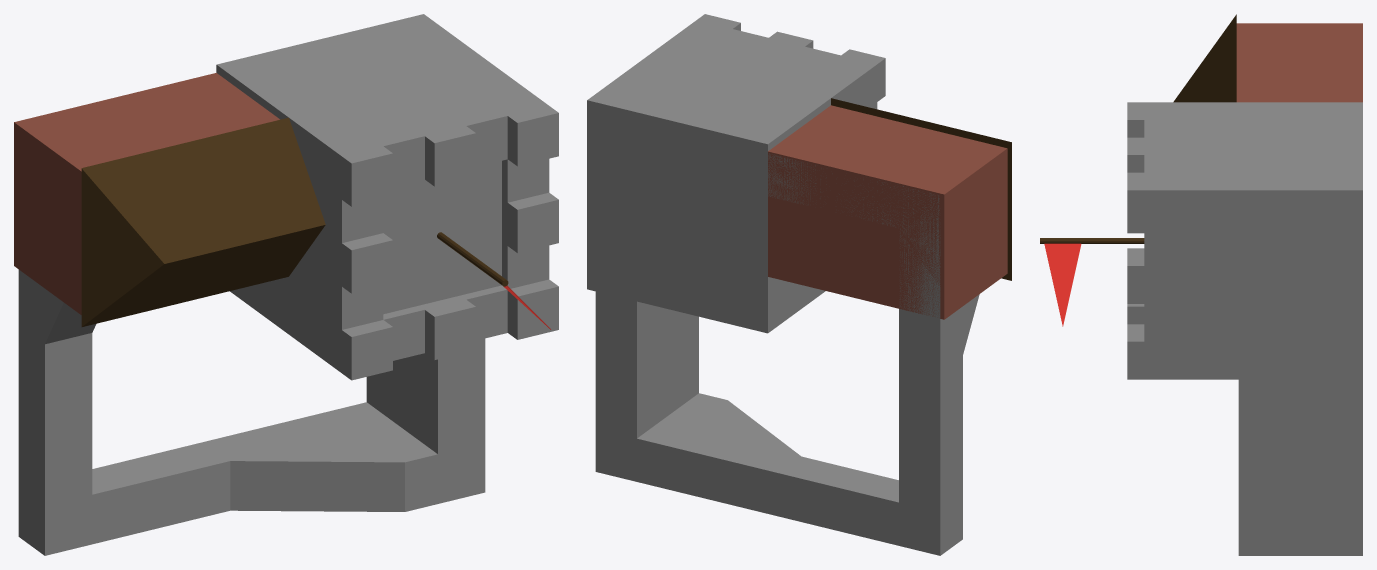
The model's file is barracks_full.glb.
The picture shows the model from 3 angles, left to right: view 1: azimuth 30°, elevation 25°; view 2: azimuth 150°, elevation 25°; view 3: azimuth 270°, elevation 25°; orthographic projection. The views are drawn at different scales.
Visible parts, largest first — view 1: Cube.002, Cube.001, Cube.004, Cube.003, Cylinder.003; view 2: Cube.001, Cube.002, Cube.003, Cube.004; view 3: Cube.002, Cube.001, Cube.003, Cube.004, Cube.005, Cylinder.003.
Part boxes in pixels (x1,y1,x2,y2): Cube.002: (216,14,558,380); Cube.001: (18,269,485,555); Cube.004: (81,117,325,326); Cube.003: (14,73,279,314); Cylinder.003: (437,232,508,286); Cube.001: (595,112,979,555); Cube.002: (587,14,885,333); Cube.003: (768,105,1007,319); Cube.004: (831,98,1011,280); Cube.002: (1127,102,1362,379); Cube.001: (1238,379,1362,555); Cube.003: (1236,23,1362,102); Cube.004: (1173,14,1236,102); Cube.005: (1044,243,1081,326); Cylinder.003: (1040,238,1144,243).
Size of the model in its own units: 4 by 3.91 by 3.09.
